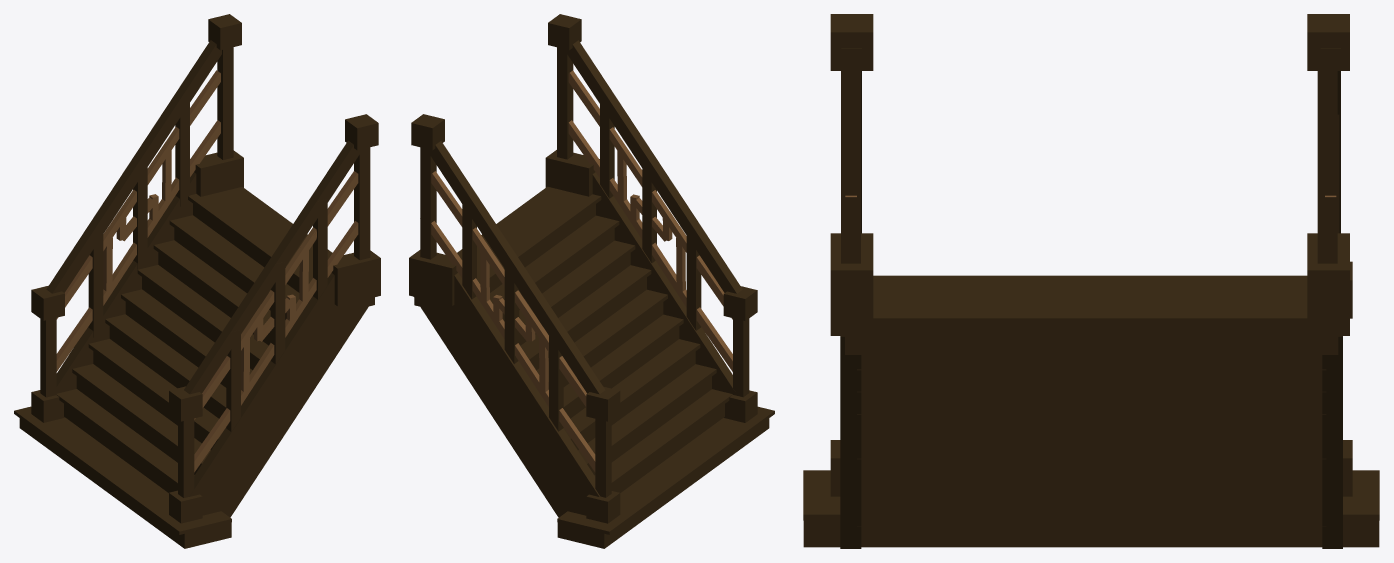
Rendered from stairs2 full 1.fbx.
3 renders of one model, left to right at view 1: azimuth 30°, elevation 25°; view 2: azimuth 150°, elevation 25°; view 3: azimuth 270°, elevation 25°, orthographic. The views are drawn at different scales.
Visible parts, largest first — view 1: Cube.179, Cube.077, Cube.075, Cube.086, Cube.074, Cube.067, Cube.091, Cube.072, Cube.092, Cube.073, Cube.068, Cube.069 (+18 smaller); view 2: Cube.179, Cube.090, Cube.091, Cube.077, Cube.086, Cube.075, Cube.067, Cube.070, Cube.074, Cube.073, Cube.069, Cube.071 (+21 smaller); view 3: Cube.075, Cube.179, Cube.067, Cube.073, Cube.072, Cube.066, Cube.068, Cube.071, Cube.070, Cube.069, Cube.074, Cube.096 (+6 smaller).
Boxes of the visible parts, x1=… form: Cube.179: x1=14, y1=32, x2=370, y2=548; Cube.077: x1=189, y1=273, x2=374, y2=499; Cube.075: x1=188, y1=187, x2=374, y2=306; Cube.086: x1=184, y1=140, x2=359, y2=393; Cube.074: x1=169, y1=215, x2=299, y2=319; Cube.067: x1=14, y1=411, x2=231, y2=548; Cube.091: x1=46, y1=40, x2=221, y2=293; Cube.072: x1=138, y1=265, x2=268, y2=365; Cube.092: x1=327, y1=250, x2=380, y2=306; Cube.073: x1=153, y1=240, x2=270, y2=339; Cube.068: x1=73, y1=364, x2=210, y2=463; Cube.069: x1=89, y1=339, x2=225, y2=447; Cube.179: x1=409, y1=23, x2=774, y2=534; Cube.090: x1=414, y1=273, x2=600, y2=517; Cube.091: x1=427, y1=141, x2=601, y2=394; Cube.077: x1=592, y1=172, x2=737, y2=395; Cube.086: x1=573, y1=40, x2=742, y2=293; Cube.075: x1=414, y1=186, x2=600, y2=306; Cube.067: x1=557, y1=411, x2=774, y2=548; Cube.070: x1=563, y1=314, x2=683, y2=415; Cube.074: x1=490, y1=215, x2=619, y2=303; Cube.073: x1=504, y1=240, x2=635, y2=324; Cube.069: x1=572, y1=340, x2=700, y2=447; Cube.071: x1=536, y1=289, x2=667, y2=381; Cube.075: x1=845, y1=275, x2=1338, y2=354; Cube.179: x1=803, y1=32, x2=1379, y2=548; Cube.067: x1=803, y1=514, x2=1379, y2=547; Cube.073: x1=857, y1=370, x2=1325, y2=392; Cube.072: x1=857, y1=392, x2=1326, y2=414; Cube.066: x1=857, y1=504, x2=1325, y2=526; Cube.068: x1=861, y1=481, x2=1322, y2=503; Cube.071: x1=861, y1=414, x2=1322, y2=436; Cube.070: x1=857, y1=436, x2=1325, y2=459; Cube.069: x1=861, y1=459, x2=1322, y2=481; Cube.074: x1=857, y1=355, x2=1326, y2=370; Cube.096: x1=1317, y1=71, x2=1337, y2=263.
Size of the model in its own units: 1287 by 2183 by 1762.
